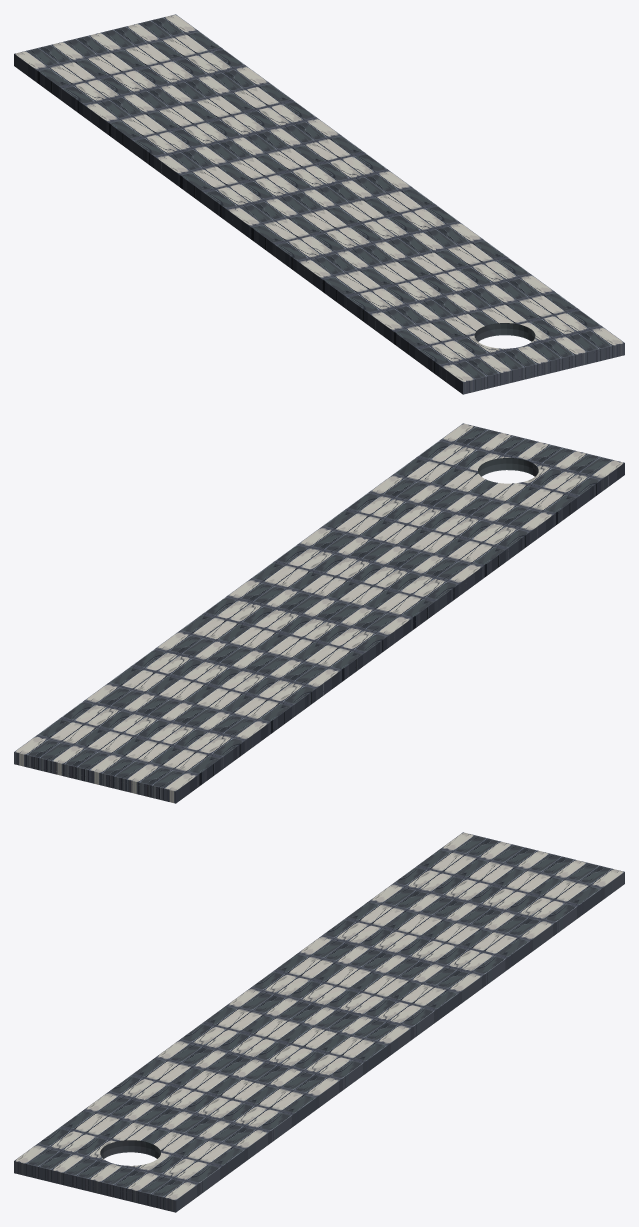
File: Training_Hub_Floor.fbx
The picture shows the model from 3 angles, top to bottom: view 1: azimuth 30°, elevation 25°; view 2: azimuth 150°, elevation 25°; view 3: azimuth 330°, elevation 25°; orthographic projection.
Parts seen in each view (by area): view 1: Plane.001; view 2: Plane.001; view 3: Plane.001.
Boxes of the visible parts, x1,y1,x2,y2 form: Plane.001: [14, 14, 624, 394]; Plane.001: [14, 423, 624, 803]; Plane.001: [14, 832, 624, 1212].
Bounding box in the file's own units: 1269 × 91.39 × 6095.
Materials: 1 (1 with a texture image).
